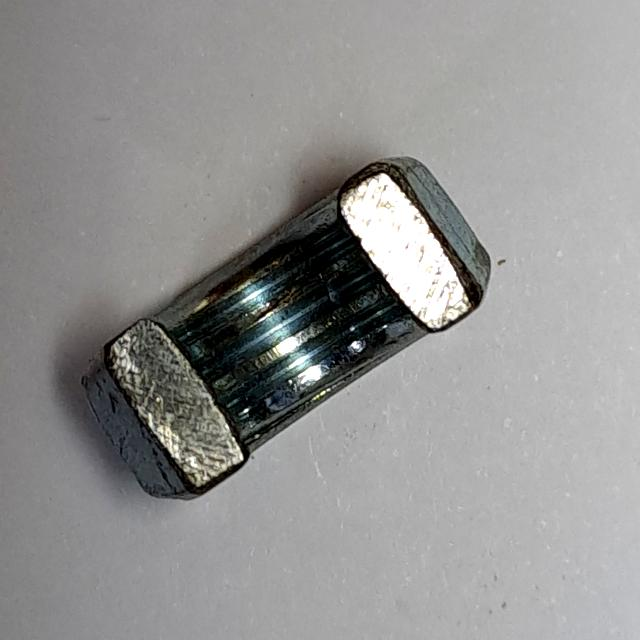Side-Fracture: (66, 143, 506, 512)
